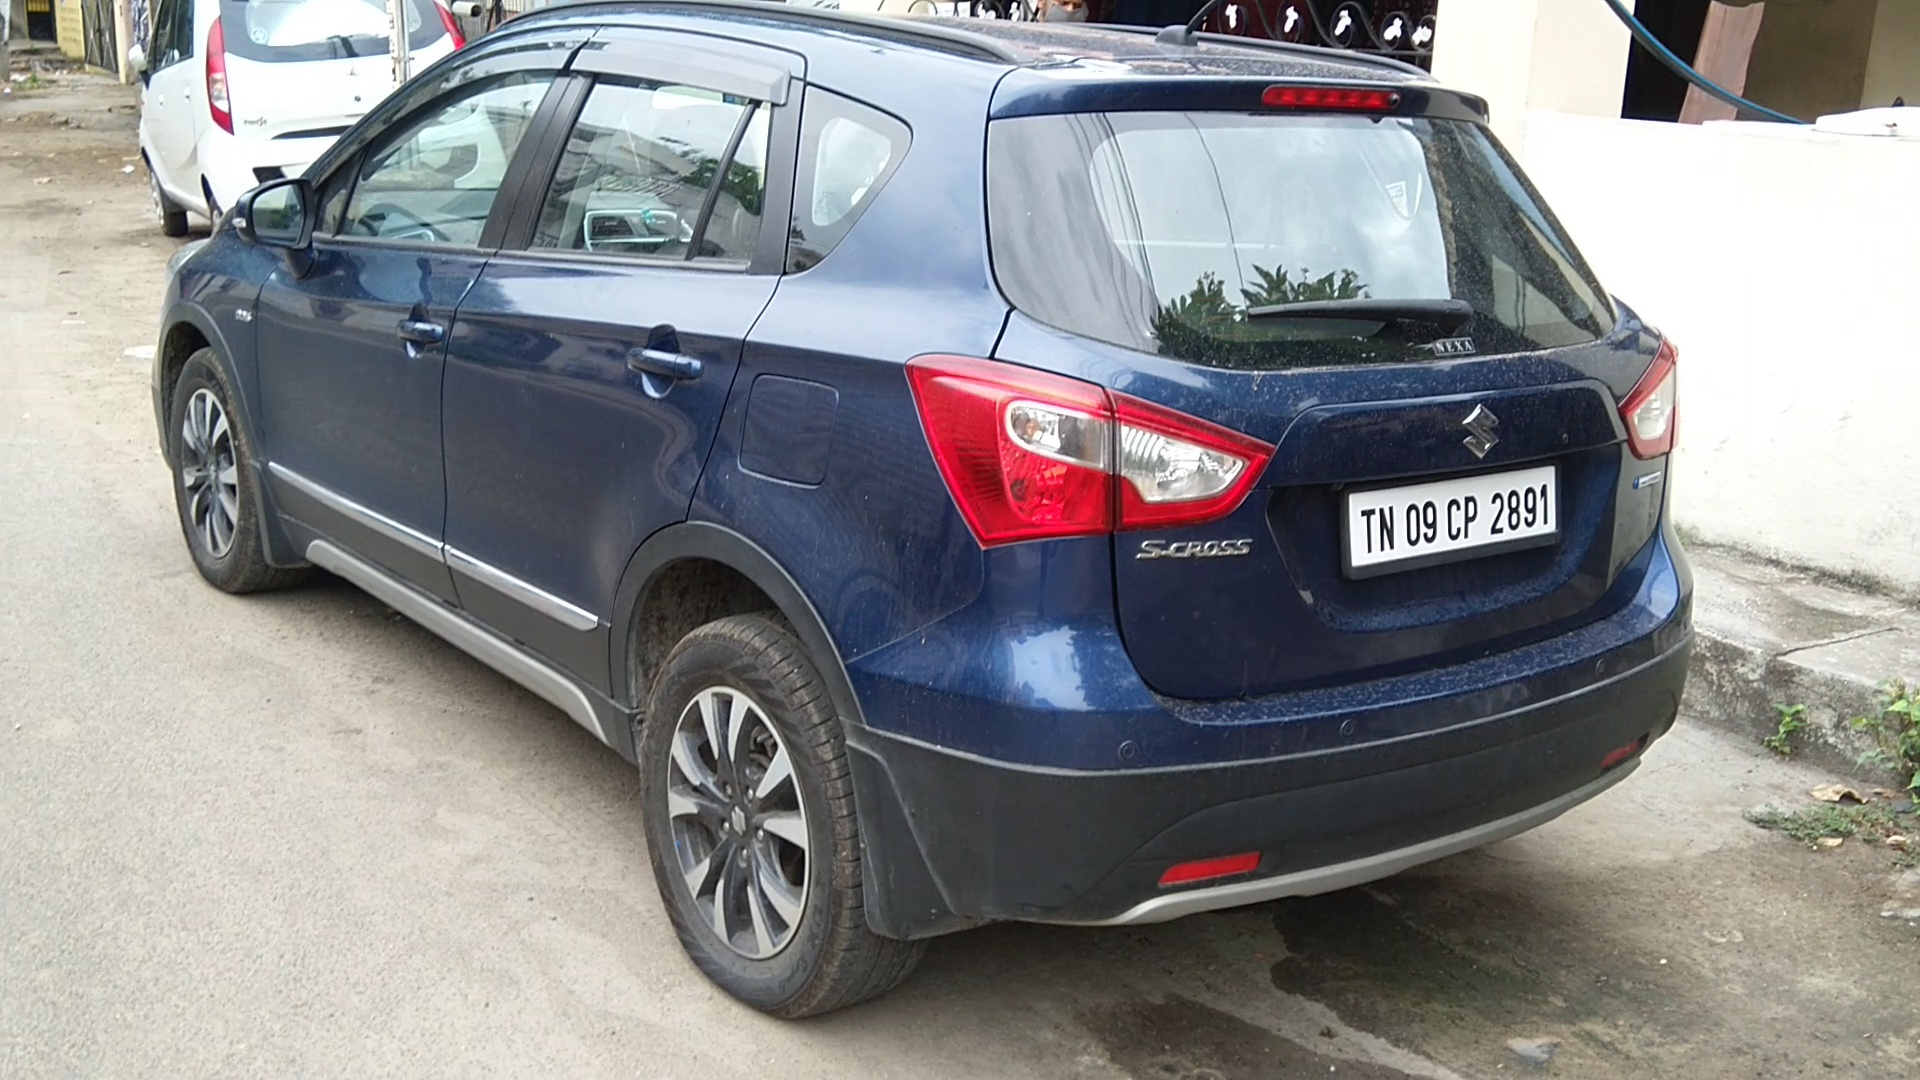alloy_wheel: (641, 640, 870, 1015), (173, 343, 255, 589)
ovr_mirror: (225, 181, 320, 262)
rear_camera: (1385, 84, 1411, 111)
